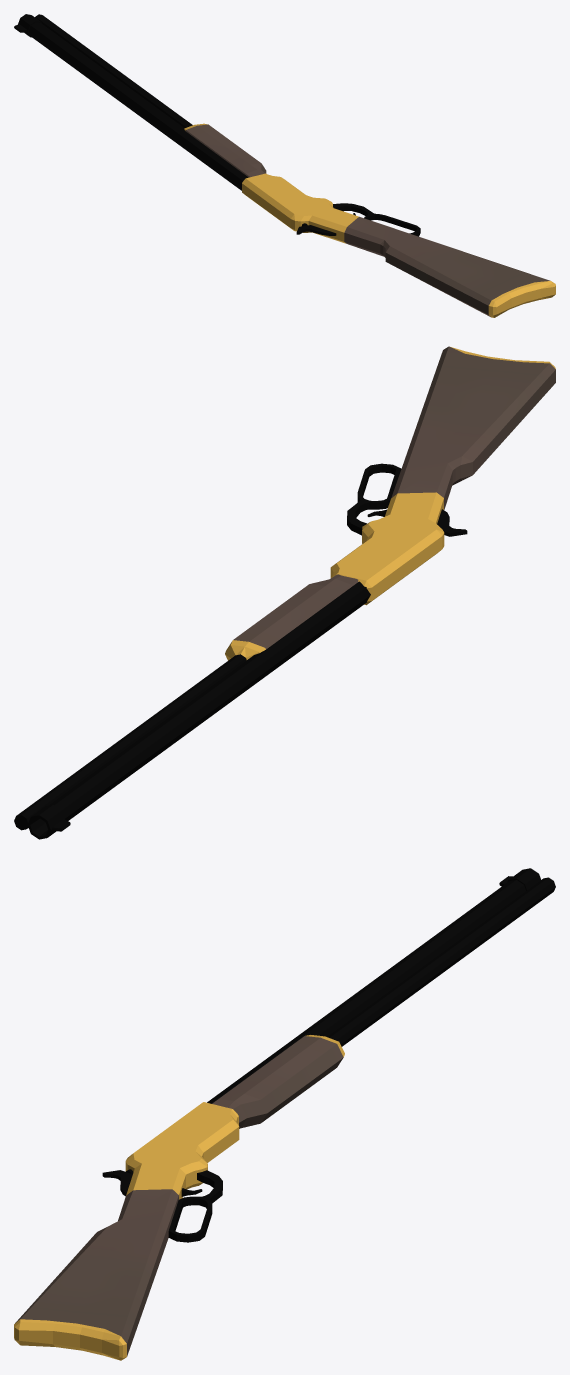
Rendered from Rifle.glb.
The picture shows the model from 3 angles, top to bottom: view 1: azimuth 30°, elevation 25°; view 2: azimuth 150°, elevation 25°; view 3: azimuth 330°, elevation 25°; orthographic projection. The views are drawn at different scales.
Visible parts, largest first — view 1: Rifle; view 2: Rifle; view 3: Rifle.
Part boxes in pixels (x1,y1,x2,y2): Rifle: (14, 14, 555, 317); Rifle: (14, 346, 555, 839); Rifle: (14, 868, 555, 1360).
Bounding box in the file's own units: 0.4237 × 0.0573 × 2.19.
1 material, 1 textured.
